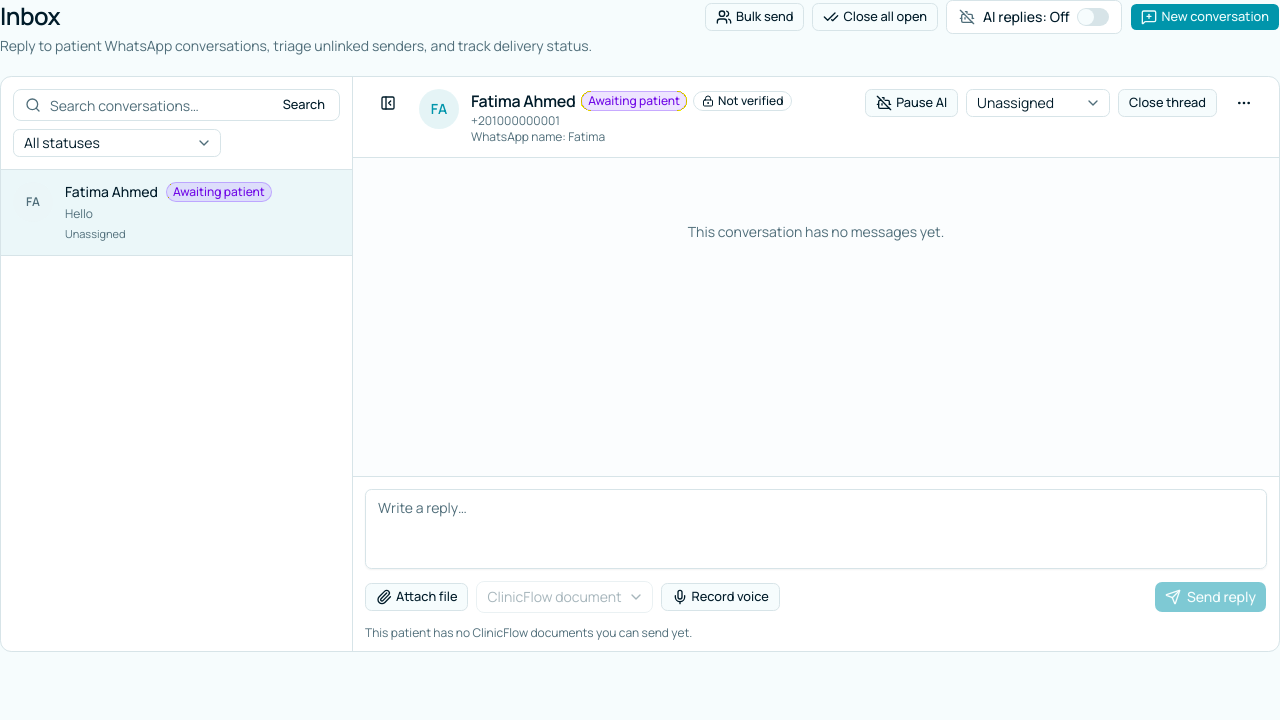
it: closing all open conversations › offers nothing to confirm when nothing is open
The image size is (1280, 720).
Click the button with test id "bulk-close-trigger" at (875, 17), box [812, 3, 938, 31]
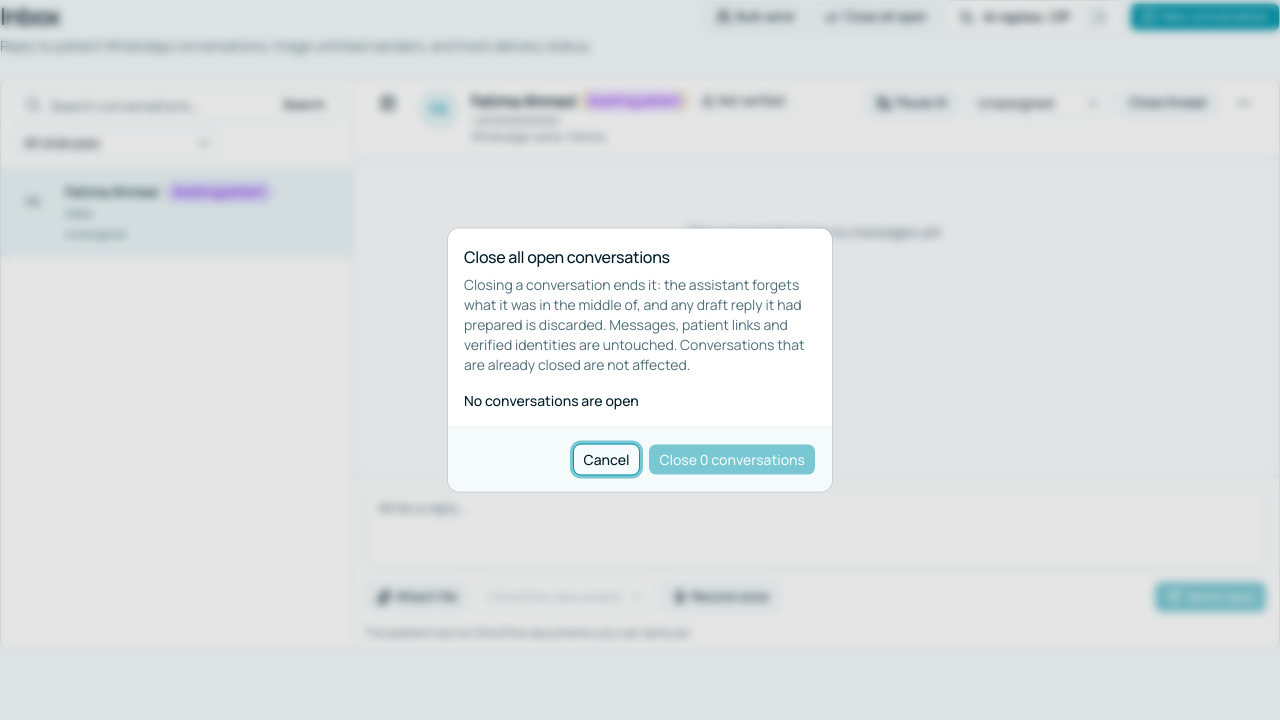
Check: the button with test id "bulk-close-confirm" is disabled, box [648, 444, 816, 476]
